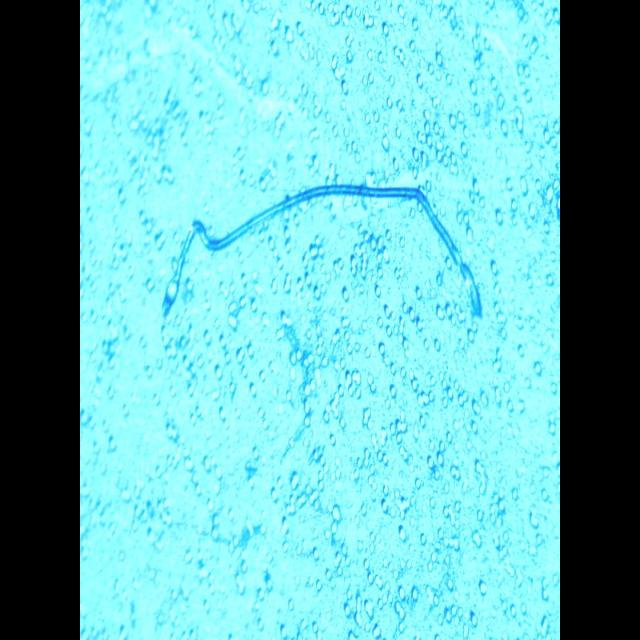Fibre: (161, 182, 484, 326)
